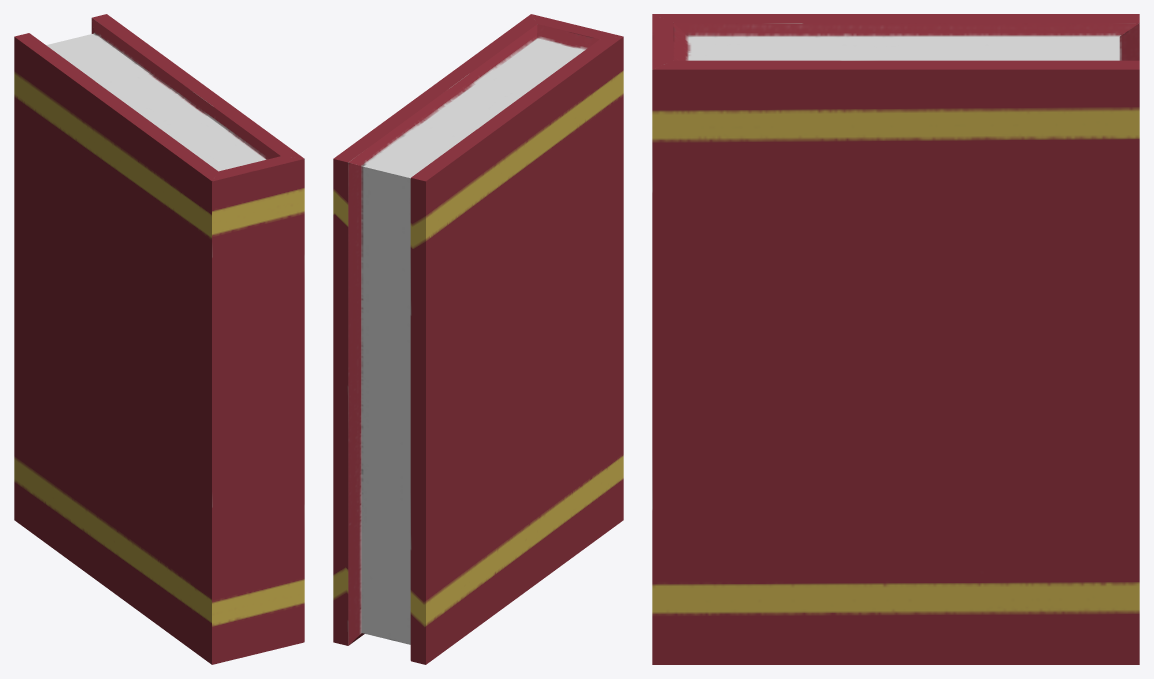
The model's file is Book_V1.fbx.
3 views of the same model, side by side, from view 1: azimuth 30°, elevation 25°; view 2: azimuth 150°, elevation 25°; view 3: azimuth 270°, elevation 25° (orthographic). The views are drawn at different scales.
Visible parts, largest first — view 1: Book_V1; view 2: Book_V1; view 3: Book_V1.
Part boxes in pixels (<box>): Book_V1: <box>14,14,304,664</box>; Book_V1: <box>333,14,623,664</box>; Book_V1: <box>652,14,1139,664</box>.
Size of the model in its own units: 7.07 by 35.27 by 26.17.
